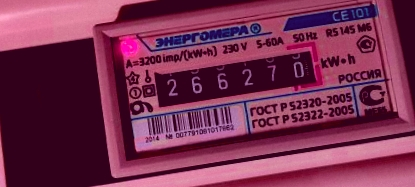0: (288, 57, 305, 79)
2: (163, 75, 179, 98), (239, 65, 255, 87)
6: (188, 72, 203, 95), (213, 69, 229, 90)
7: (265, 61, 278, 82)
screen: (139, 35, 329, 118)
